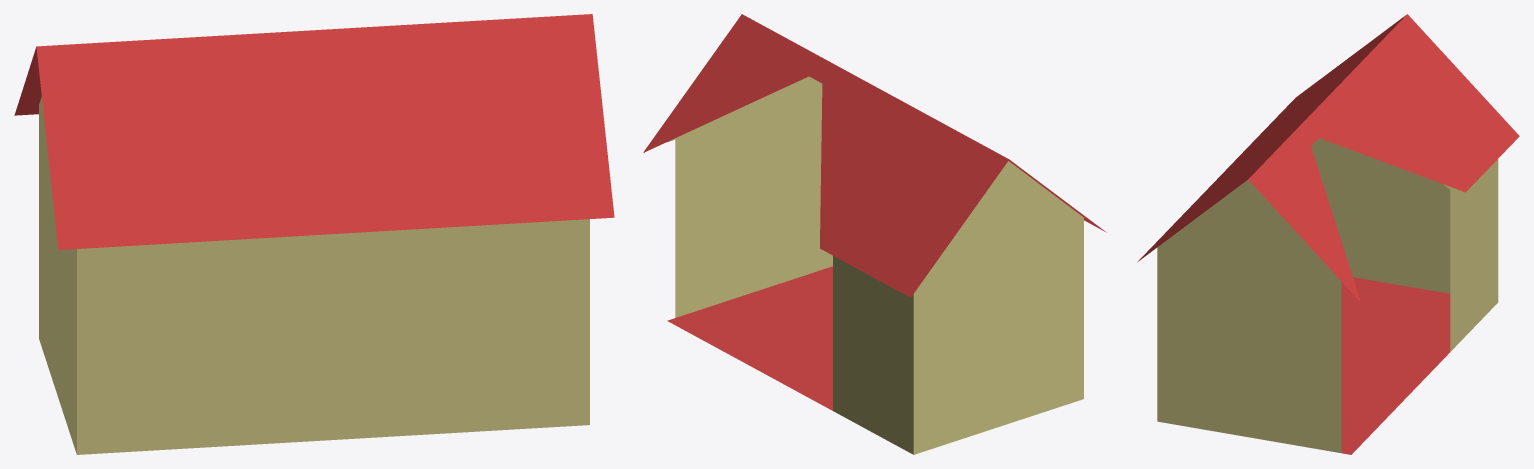
The picture shows the model from 3 angles, left to right: view 1: azimuth 30°, elevation 25°; view 2: azimuth 150°, elevation 25°; view 3: azimuth 270°, elevation 25°; orthographic projection. The views are drawn at different scales.
Bounding box in the file's own units: 22.12 × 17.57 × 13.39.
